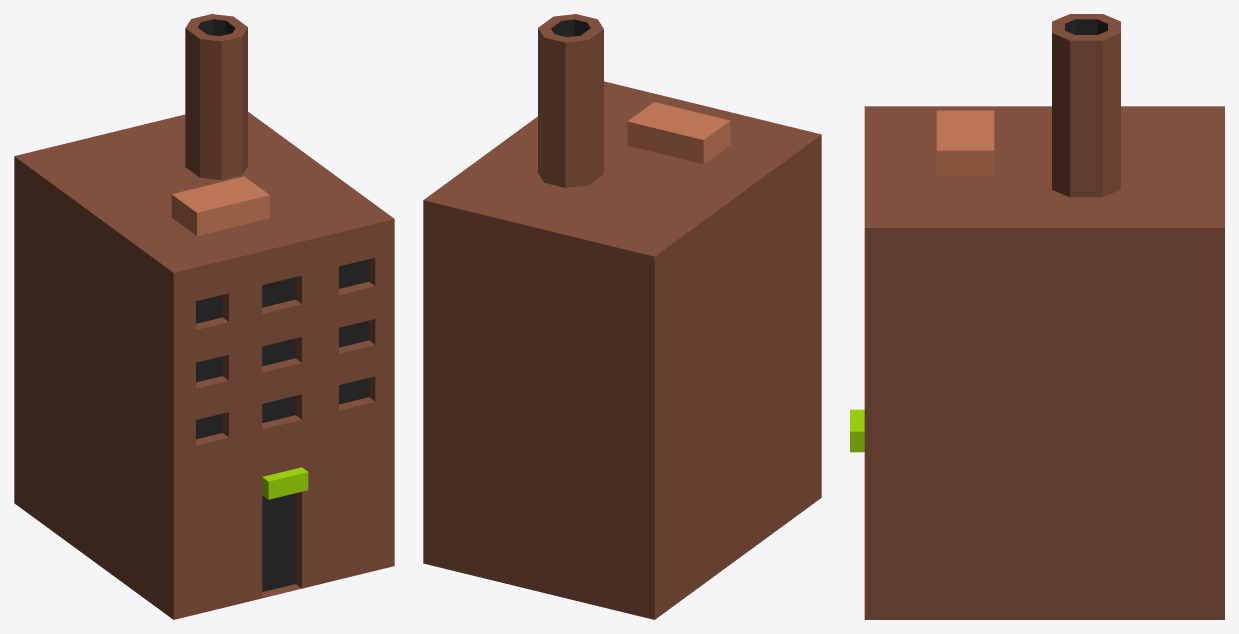
The model's file is Coal_Factory.fbx.
The picture shows the model from 3 angles, left to right: view 1: azimuth 30°, elevation 25°; view 2: azimuth 150°, elevation 25°; view 3: azimuth 270°, elevation 25°; orthographic projection. The views are drawn at different scales.
Visible parts, largest first — view 1: Coal_Factory; view 2: Coal_Factory; view 3: Coal_Factory.
Boxes of the visible parts, <box> form: Coal_Factory: <box>14,14,394,619</box>; Coal_Factory: <box>423,14,821,619</box>; Coal_Factory: <box>850,14,1224,619</box>.
Bounding box in the file's own units: 200 × 420 × 260.
